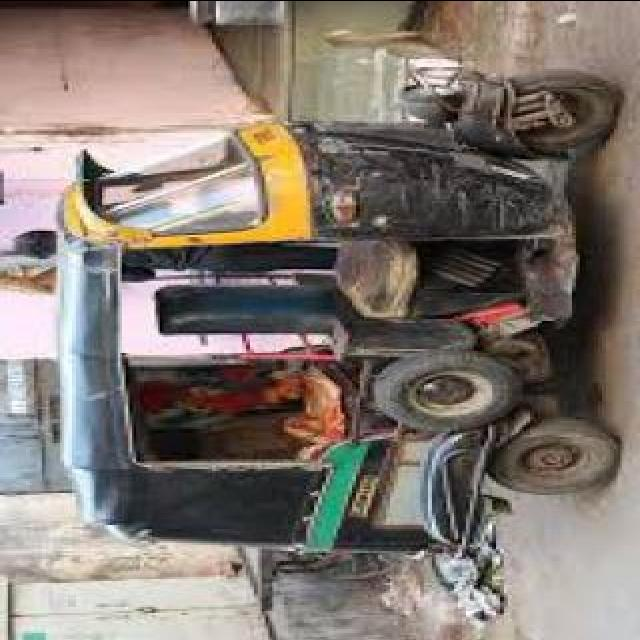Autorickshaw: (56, 40, 624, 576)
